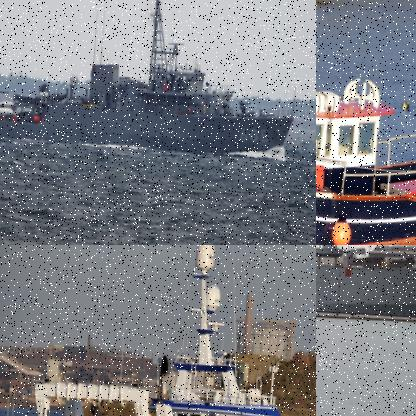Fishing Boat: (23, 245, 315, 415), (316, 0, 415, 244)
Military Ship: (0, 0, 306, 162), (316, 245, 415, 329), (365, 245, 415, 323)
Patrol Boat: (316, 245, 347, 259)
